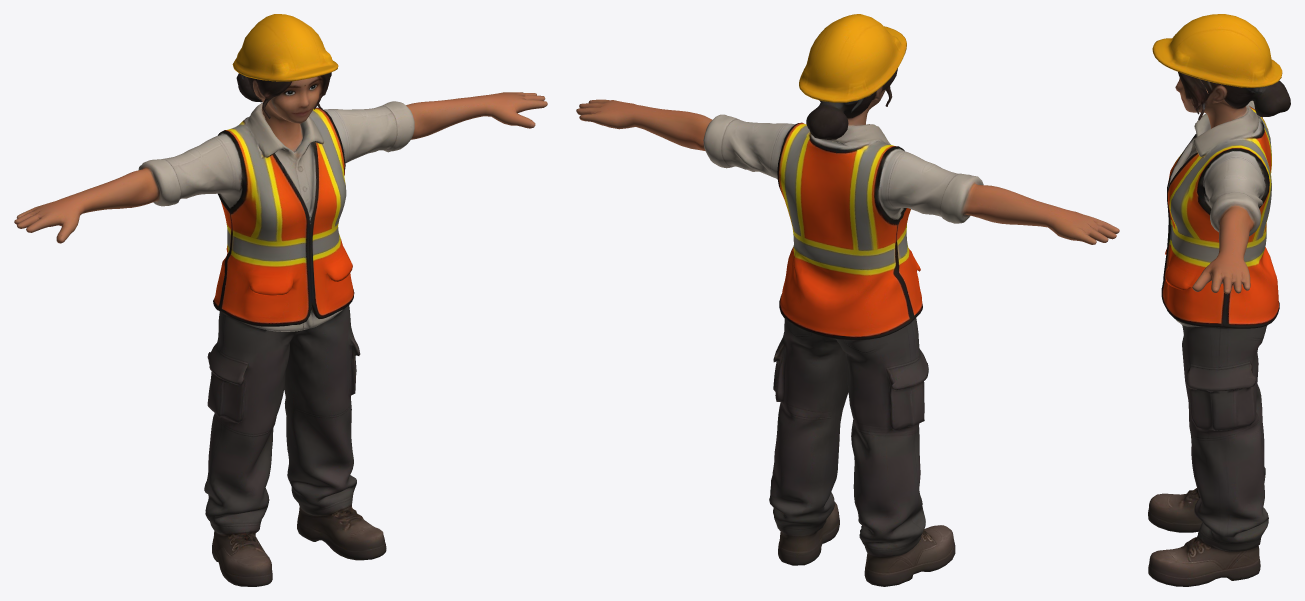
File: female5.glb
3 views of the same model, side by side, from view 1: azimuth 30°, elevation 25°; view 2: azimuth 150°, elevation 25°; view 3: azimuth 270°, elevation 25° (orthographic).
Visible parts, largest first — view 1: tripo_node_13b0cab6-1118-4cf9-bf23-948d68fe8755; view 2: tripo_node_13b0cab6-1118-4cf9-bf23-948d68fe8755; view 3: tripo_node_13b0cab6-1118-4cf9-bf23-948d68fe8755.
Part boxes in pixels (left/top/right/bottom): tripo_node_13b0cab6-1118-4cf9-bf23-948d68fe8755: left=14, top=14, right=547, bottom=586; tripo_node_13b0cab6-1118-4cf9-bf23-948d68fe8755: left=576, top=14, right=1119, bottom=586; tripo_node_13b0cab6-1118-4cf9-bf23-948d68fe8755: left=1148, top=14, right=1290, bottom=586.
Bounding box in the file's own units: 0.9776 × 0.9445 × 0.2283.
Materials: 1 (1 with a texture image).
